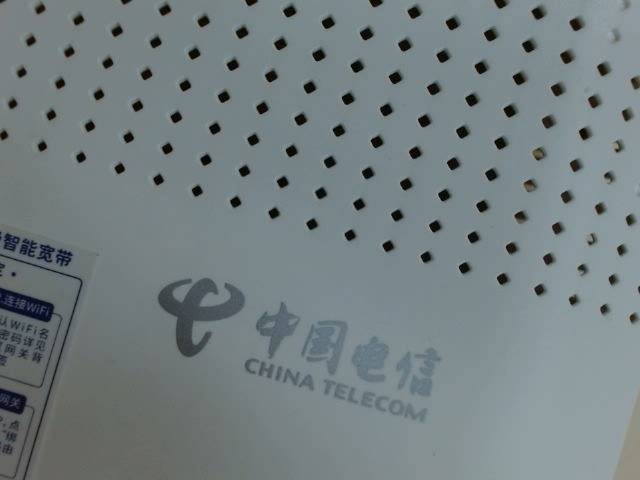ChinaTelecom1: (147, 268, 455, 430)
